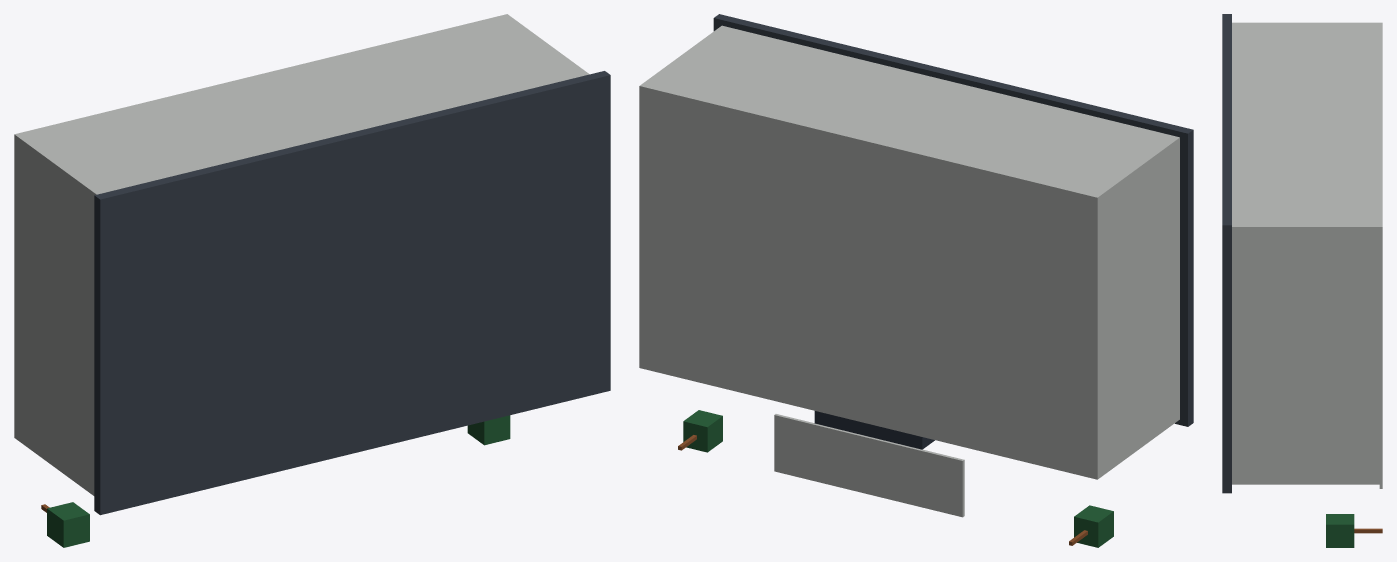
The model's file is saxion.obj.
3 renders of one model, left to right at view 1: azimuth 30°, elevation 25°; view 2: azimuth 150°, elevation 25°; view 3: azimuth 270°, elevation 25°, orthographic. The views are drawn at different scales.
Visible parts, largest first — view 1: saxion; view 2: saxion; view 3: saxion.
Boxes of the visible parts, x1,y1,x2,y2 form: saxion: (14, 14, 610, 547); saxion: (639, 14, 1193, 547); saxion: (1222, 14, 1382, 547).
Bounding box in the file's own units: 35.2 × 26.3 × 11.3.
